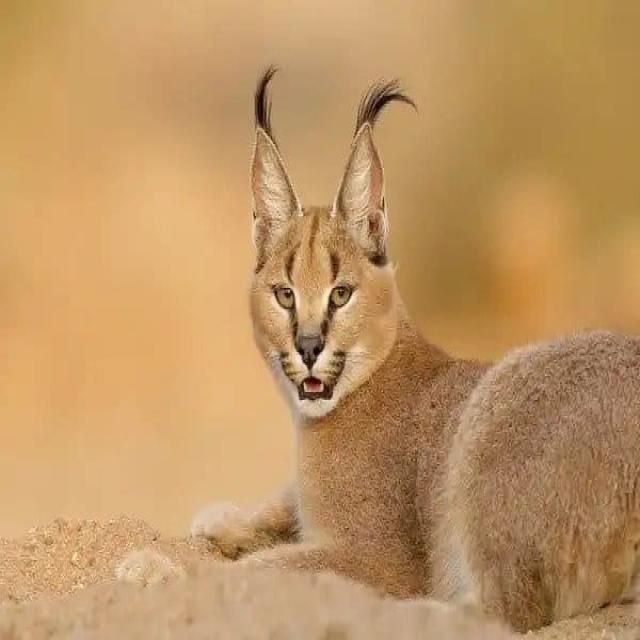Carnivorous: (194, 70, 640, 634)
